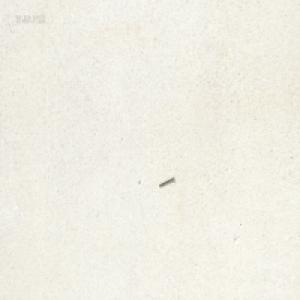Bolt: (158, 175, 174, 187)
